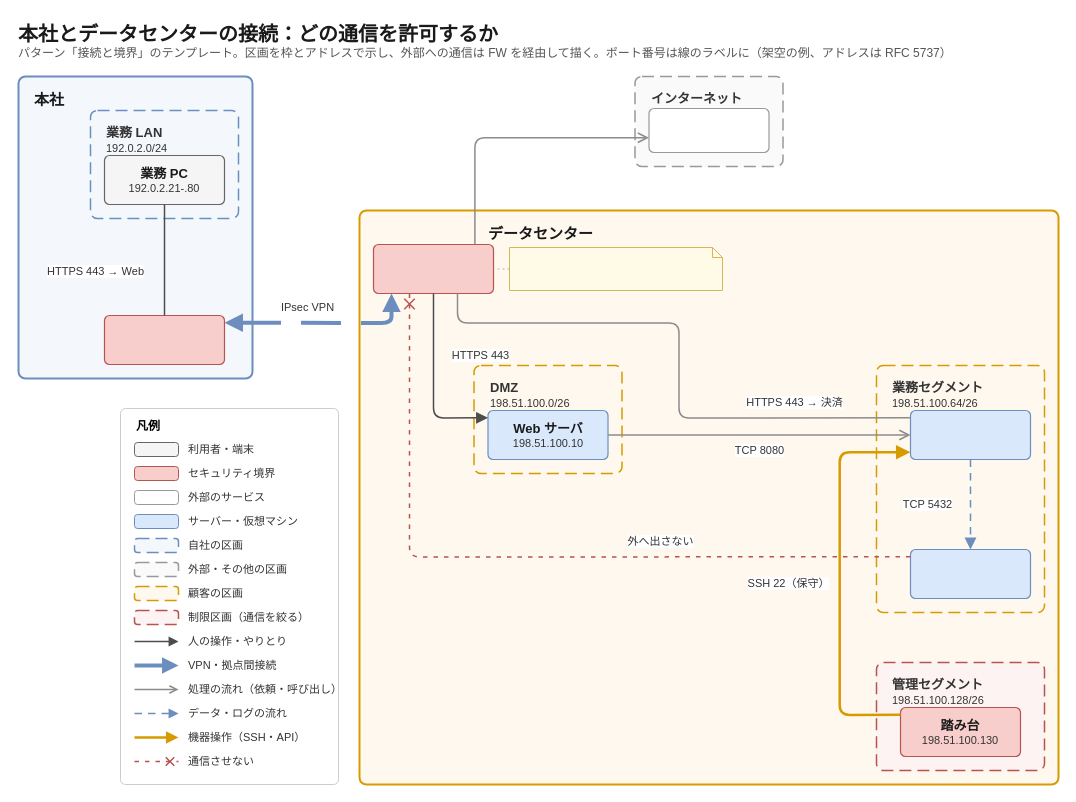
The diagram is 1076 pixels wide and 802 high, and some of its shapes have lost their labels. The centre of each missing label's shape, as x and y in pixels:
AP サーバ 198.51.100.70: [970,434]
DB サーバ 198.51.100.71: [970,573]
DC FW 203.0.113.10: [433,268]
本社 FW 203.0.113.1: [164,339]
決済サービス: [708,130]
許可：本社 → Web の HTTPS 443、 AP → 決済サービスの HTTPS 443: [615,268]
